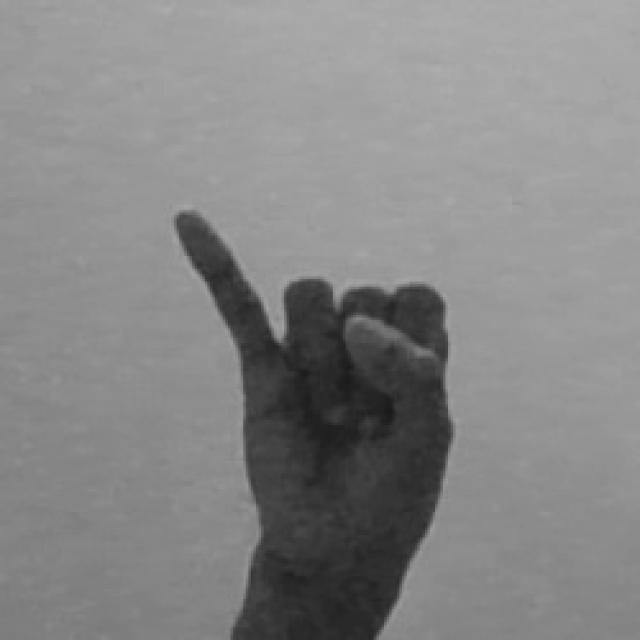I: (163, 199, 463, 640)
